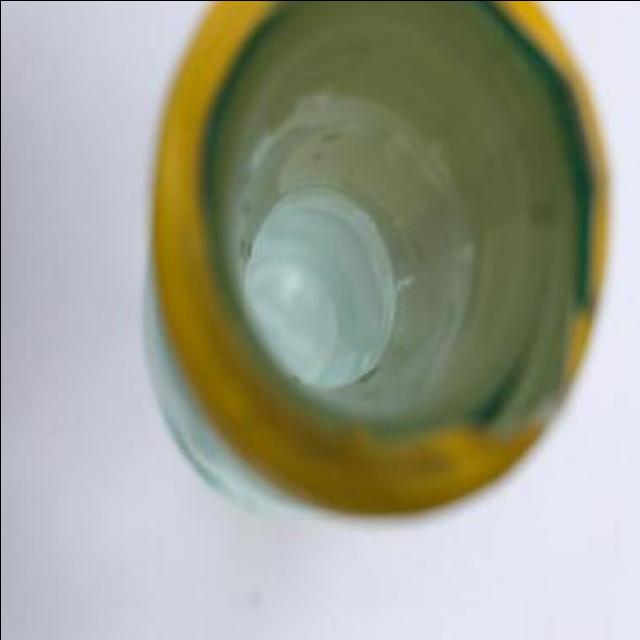kaca: (140, 0, 610, 515)
